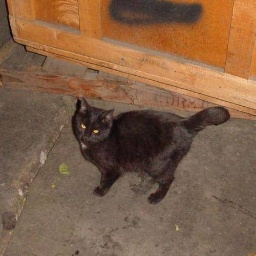cat: (69, 90, 228, 205)
